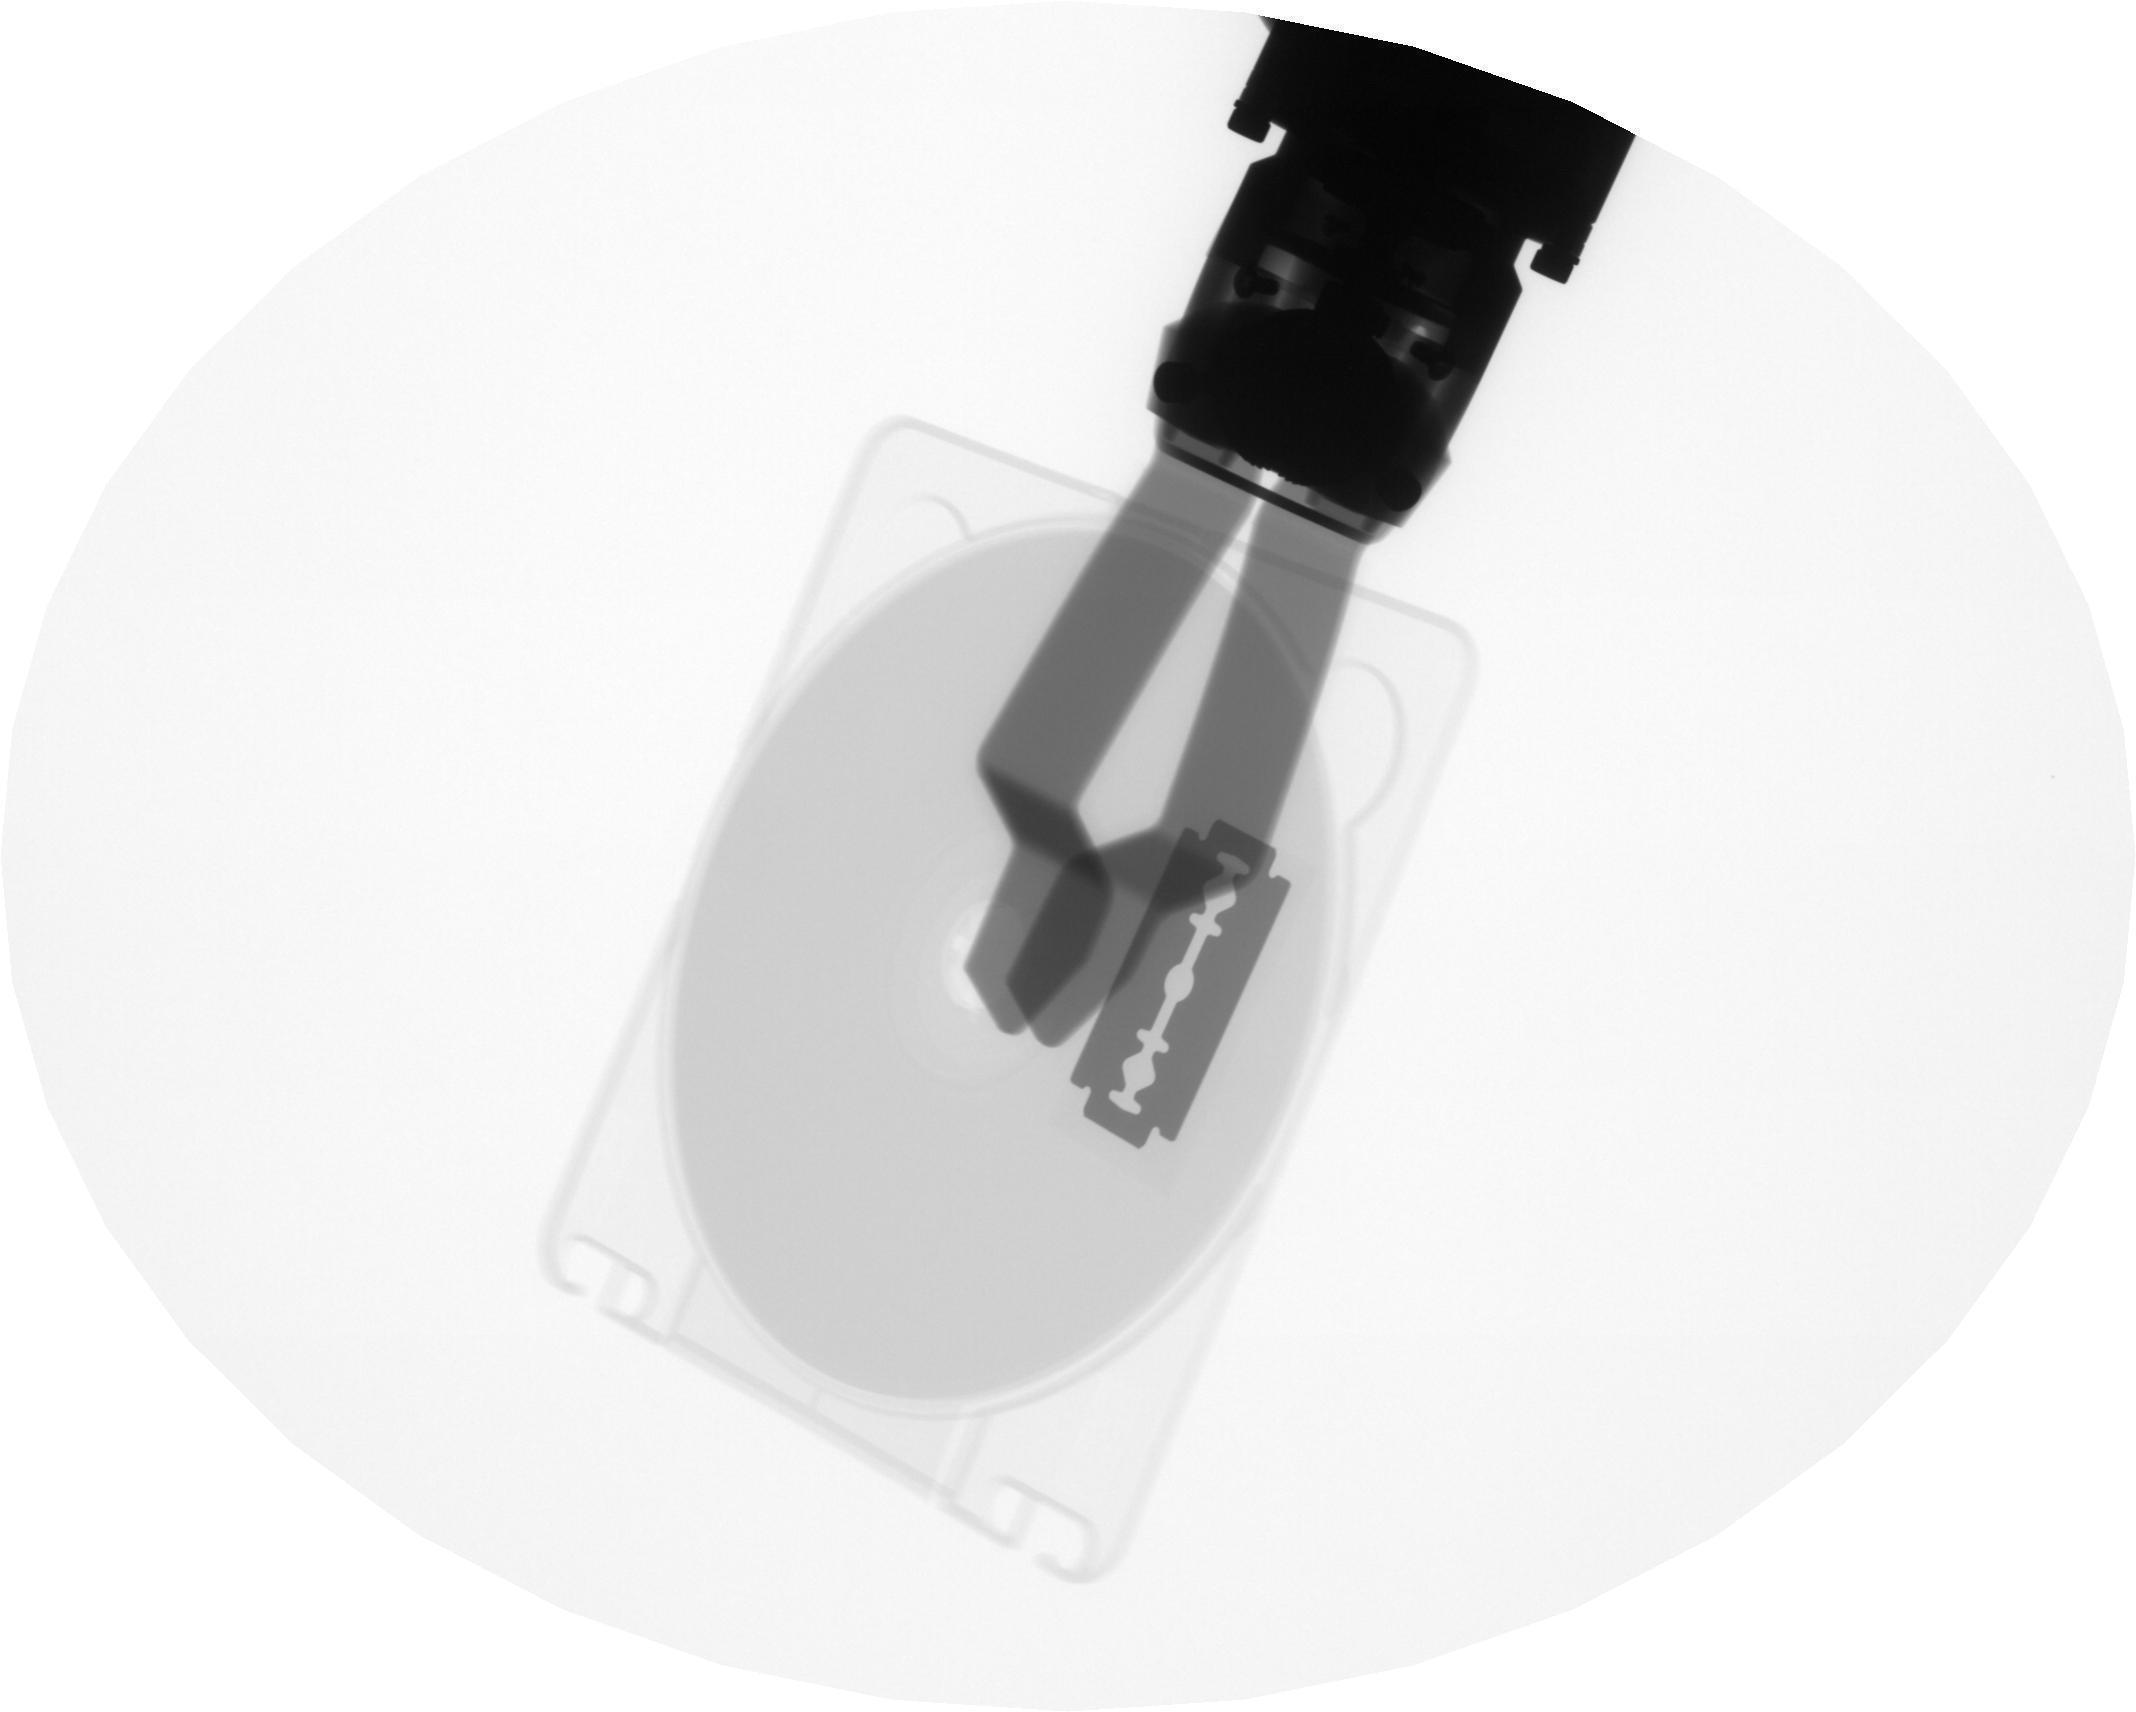RazorBlade: (1067, 805, 1306, 1193)
